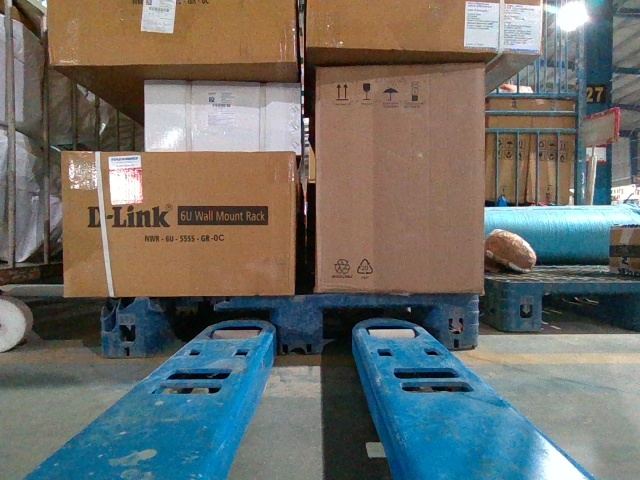block: (101, 297, 151, 361), (277, 296, 323, 356), (435, 295, 483, 352), (506, 282, 543, 334)
front: (107, 293, 482, 356)
hole pallet: (143, 307, 276, 358), (320, 302, 436, 359), (538, 289, 639, 334)
